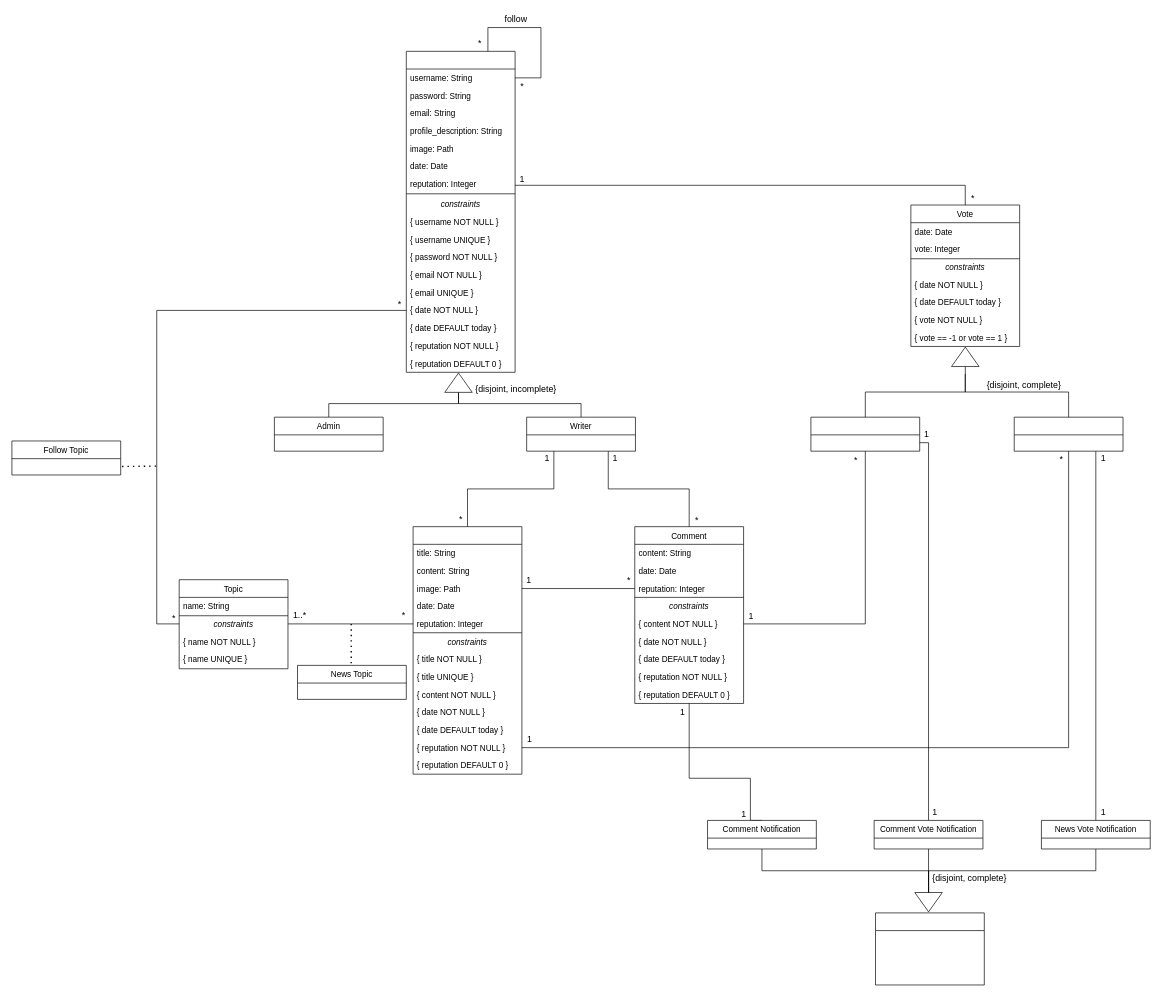
The diagram is 1162 pixels wide and 997 high, and some of its shapes have lost their labels. The shapes that lost their labels are listed below. From the top down, each one's box as (x1, y1, x2, y2) in pixels, then its label:
(406, 51, 515, 372): Member
(810, 417, 920, 451): Vote on Comment
(1014, 417, 1123, 451): Vote on News
(412, 526, 522, 774): News
(875, 912, 984, 985): Notification
